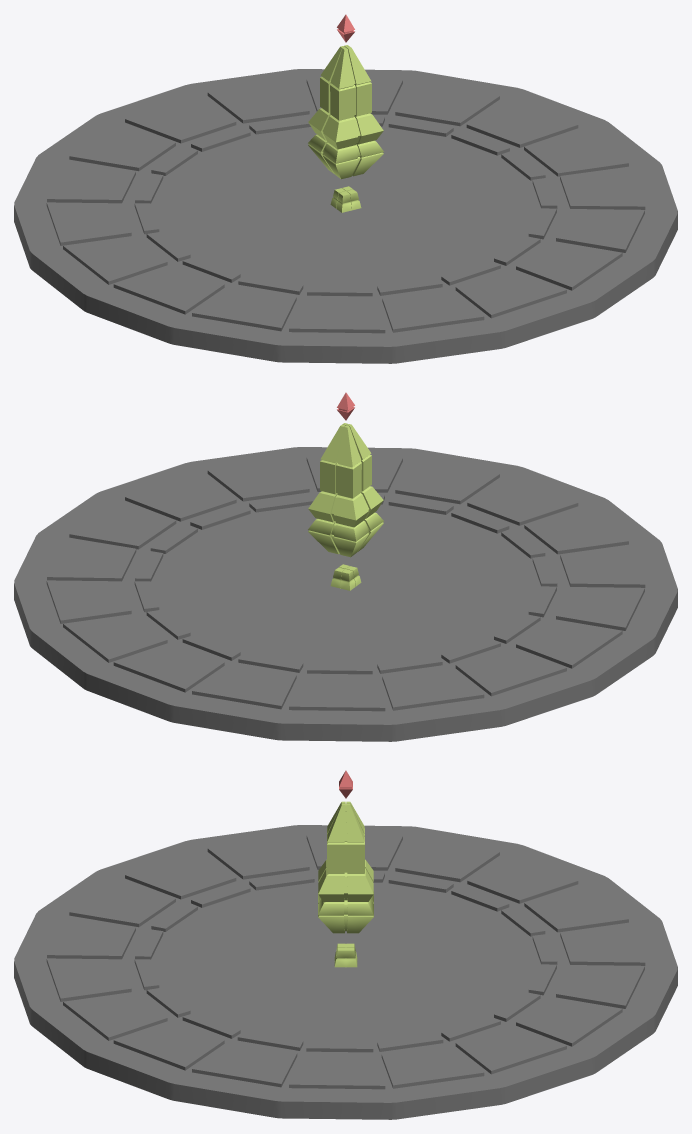
Rendered from TorretaPiedra.FBX.
3 views of the same model, one above another, from view 1: azimuth 30°, elevation 25°; view 2: azimuth 150°, elevation 25°; view 3: azimuth 270°, elevation 25° (orthographic).
Visible parts, largest first — view 1: PisoTorreta, Torreta, BaseTorreta; view 2: PisoTorreta, Torreta, BaseTorreta; view 3: PisoTorreta, Torreta, BaseTorreta.
Boxes of the visible parts, x1,y1,x2,y2 form: PisoTorreta: [14, 69, 677, 363]; Torreta: [308, 45, 383, 179]; BaseTorreta: [330, 186, 361, 212]; PisoTorreta: [14, 447, 677, 741]; Torreta: [308, 423, 383, 557]; BaseTorreta: [330, 564, 361, 590]; PisoTorreta: [14, 825, 677, 1119]; Torreta: [318, 801, 373, 933]; BaseTorreta: [334, 943, 357, 967].
Bounding box in the file's own units: 40.48 × 14.31 × 40.86.
